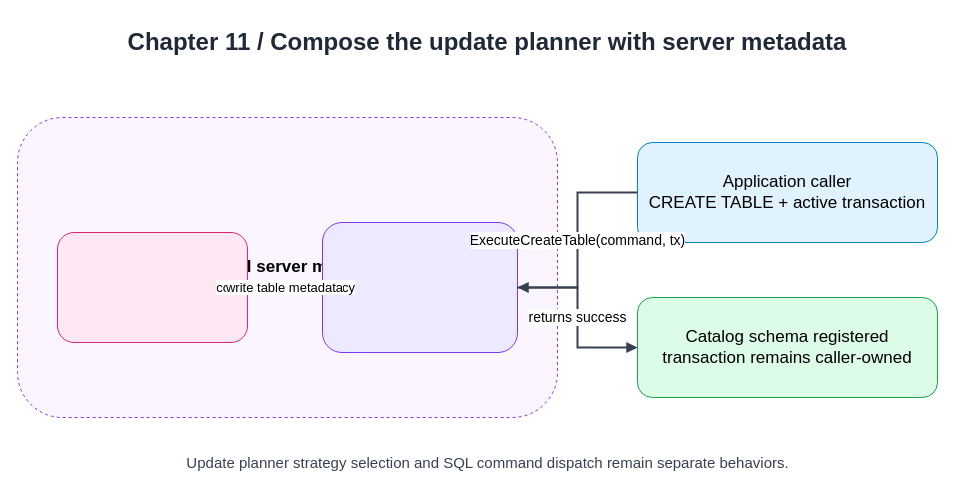
Image size: 955x504. Some labels were removed from this diagram. Each missing label, with the centre of its shape:
BasicUpdatePlanner implements UpdatePlanner uses shared metadata: the point at 420,287
Metadata facade table · view · index catalogs: the point at 152,287
